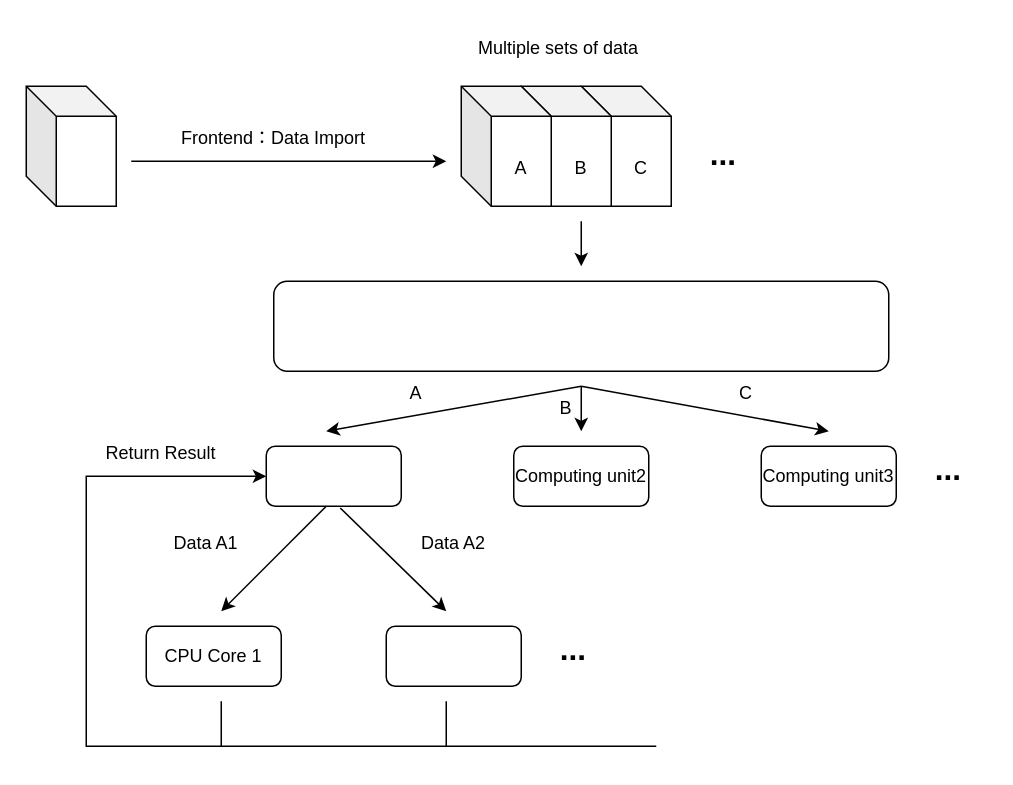
The diagram is 1013 pixels wide and 785 high, and some of its shapes have lost their labels. Each missing label, with the centre of its shape:
"Backend Master Control: DIstribute data to different units" goes at point (580, 325).
"Computing unit1" goes at point (333, 475).
"CPU Core 2" goes at point (453, 655).
